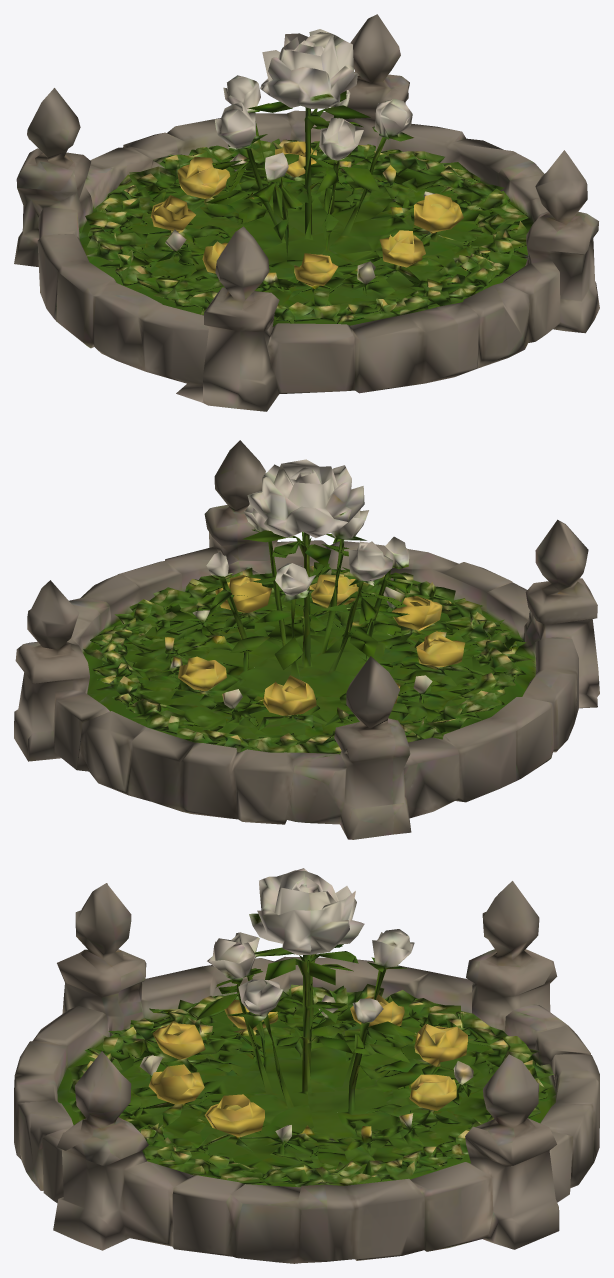
File: flower_bed_round.glb
3 renders of one model, top to bottom at view 1: azimuth 30°, elevation 25°; view 2: azimuth 150°, elevation 25°; view 3: azimuth 270°, elevation 25°, orthographic. The views are drawn at different scales.
Parts seen in each view (by area): view 1: tripo_node_1523cf4e-816d-44da-9db4-2b00bd25688d; view 2: tripo_node_1523cf4e-816d-44da-9db4-2b00bd25688d; view 3: tripo_node_1523cf4e-816d-44da-9db4-2b00bd25688d.
Boxes of the visible parts, x1,y1,x2,y2 form: tripo_node_1523cf4e-816d-44da-9db4-2b00bd25688d: (14,14,599,411); tripo_node_1523cf4e-816d-44da-9db4-2b00bd25688d: (14,440,599,839); tripo_node_1523cf4e-816d-44da-9db4-2b00bd25688d: (14,868,599,1263).
Size of the model in its own units: 0.9776 by 0.5043 by 0.9774.
Materials: 1 (1 with a texture image).
